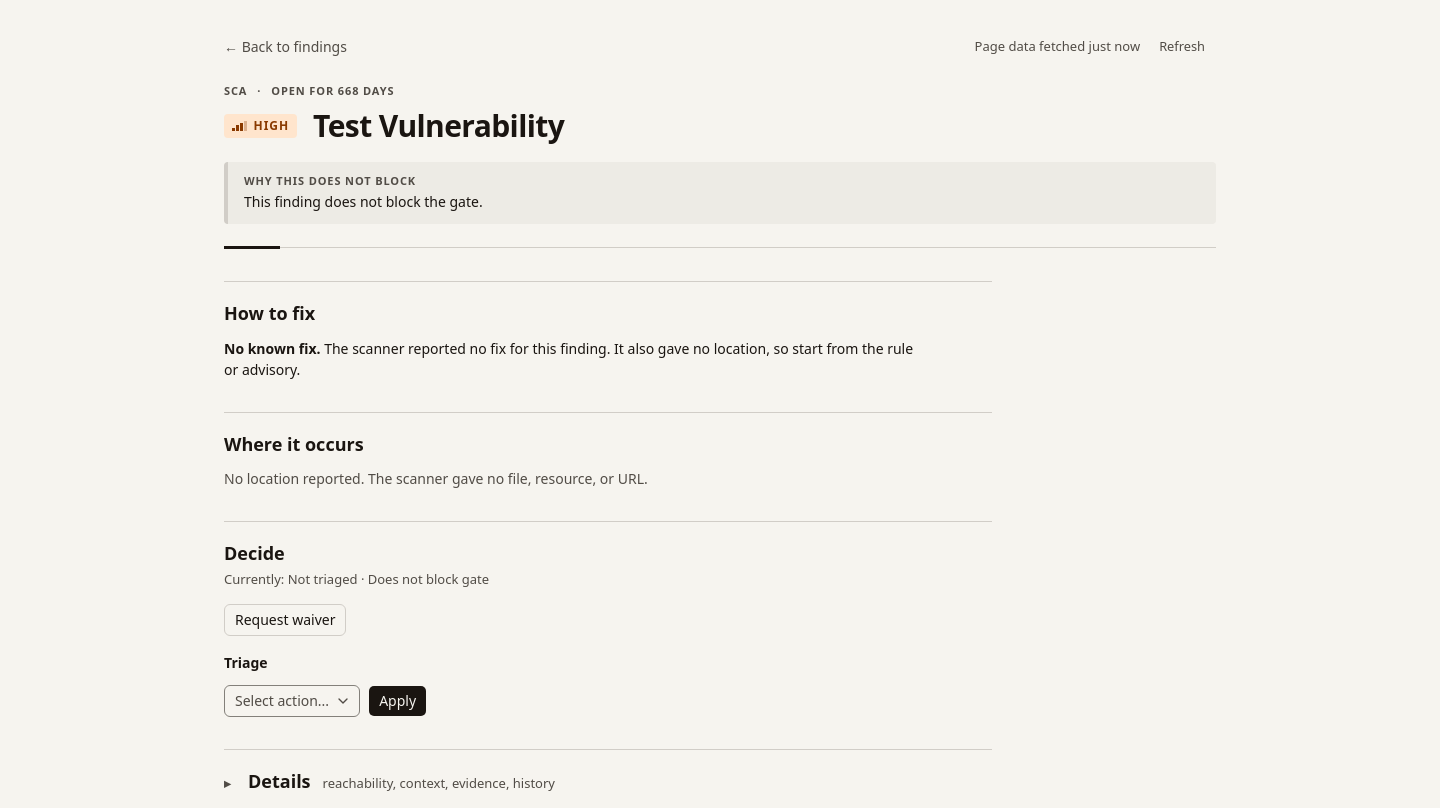
Test: FindingDetail accessibility › names each triage and reachability control for assistive technology
This screenshot has width=1440, height=808.
Expected: the heading "Test Vulnerability" is shown, [313, 109, 564, 142]
Click the button "▸ Details reachability, context, evidence, history" at (279, 781), box [224, 766, 992, 798]
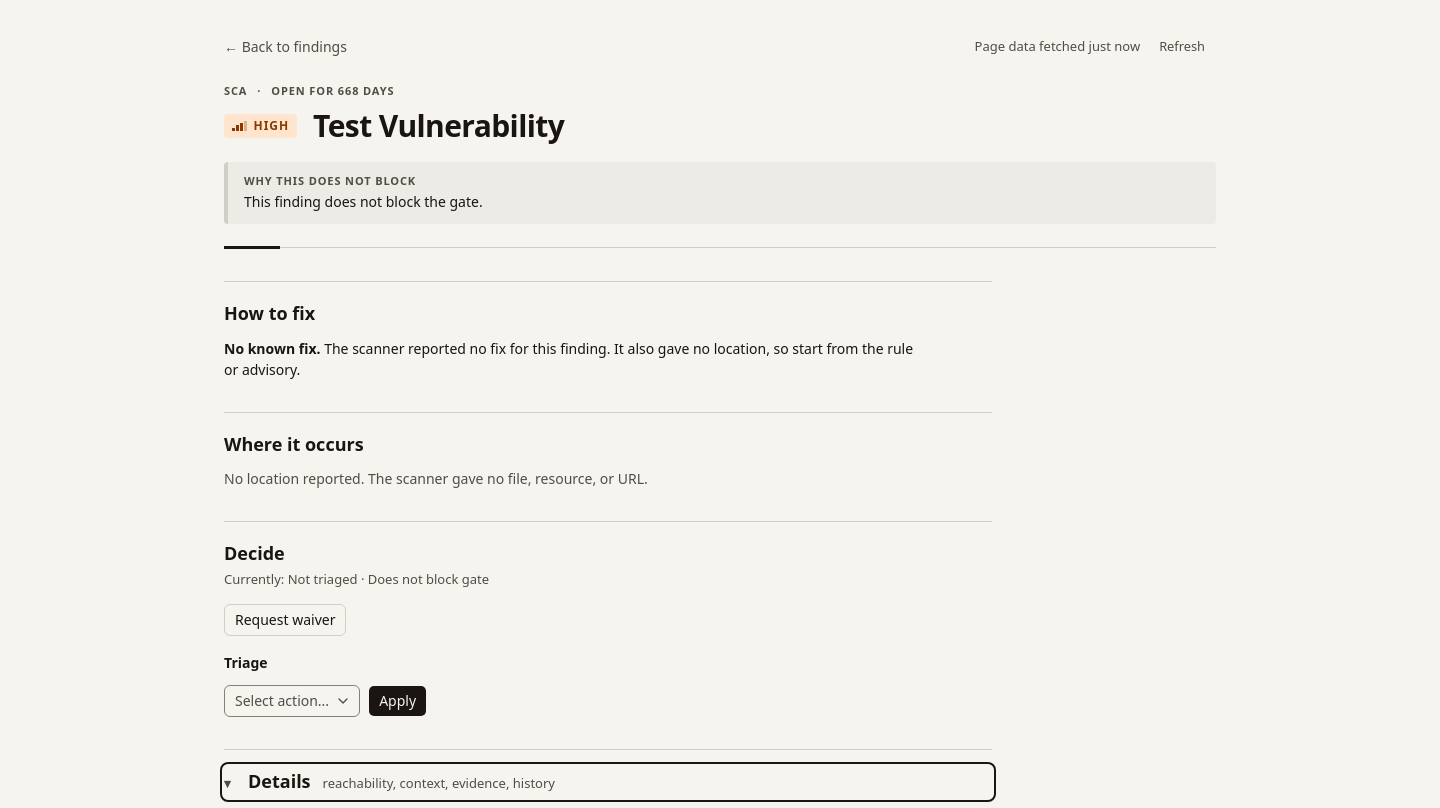
Click the dropdown named "Triage action" at (292, 701), box [224, 685, 360, 717]
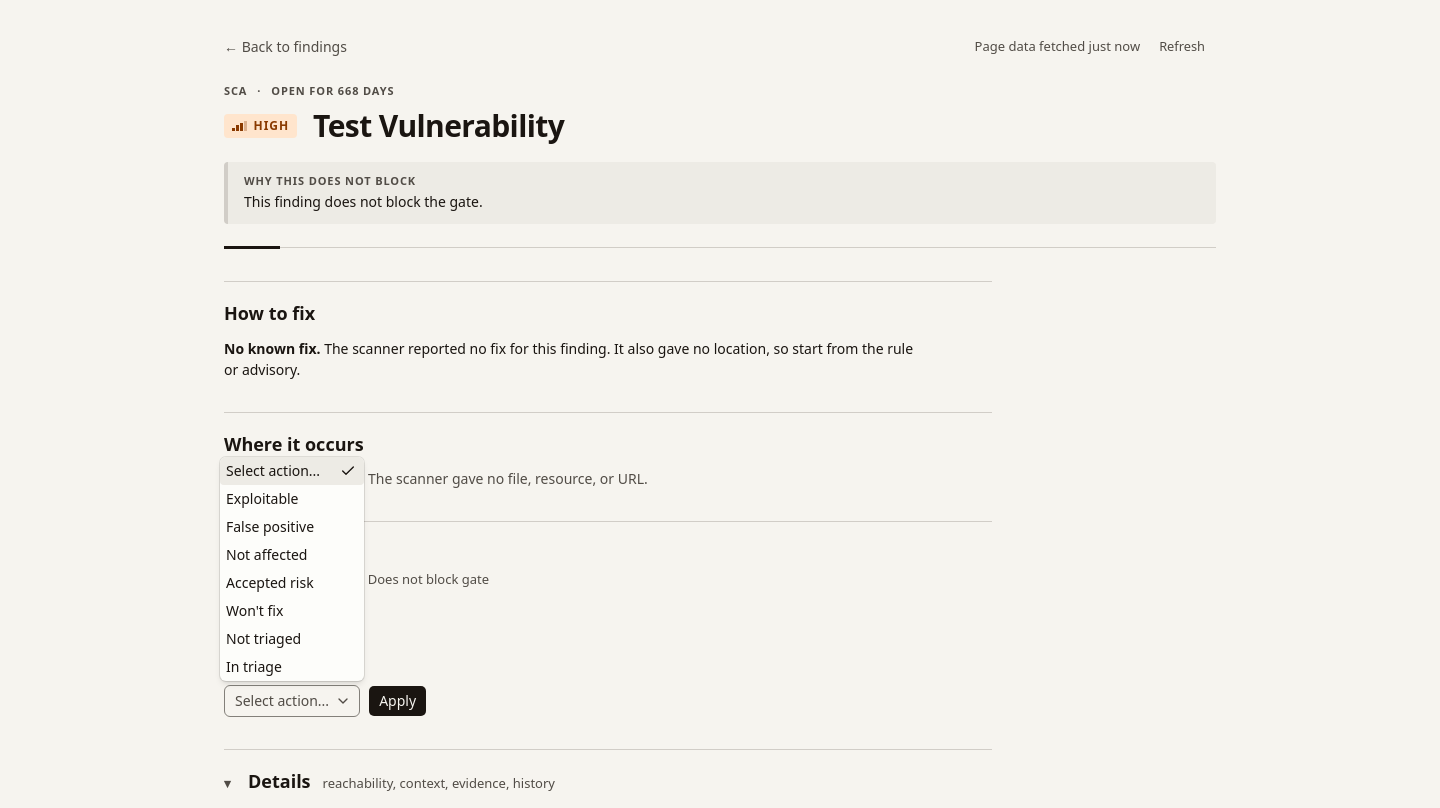
Click the option "Accepted risk" at (270, 582), box [226, 573, 314, 592]
(page scrolled)
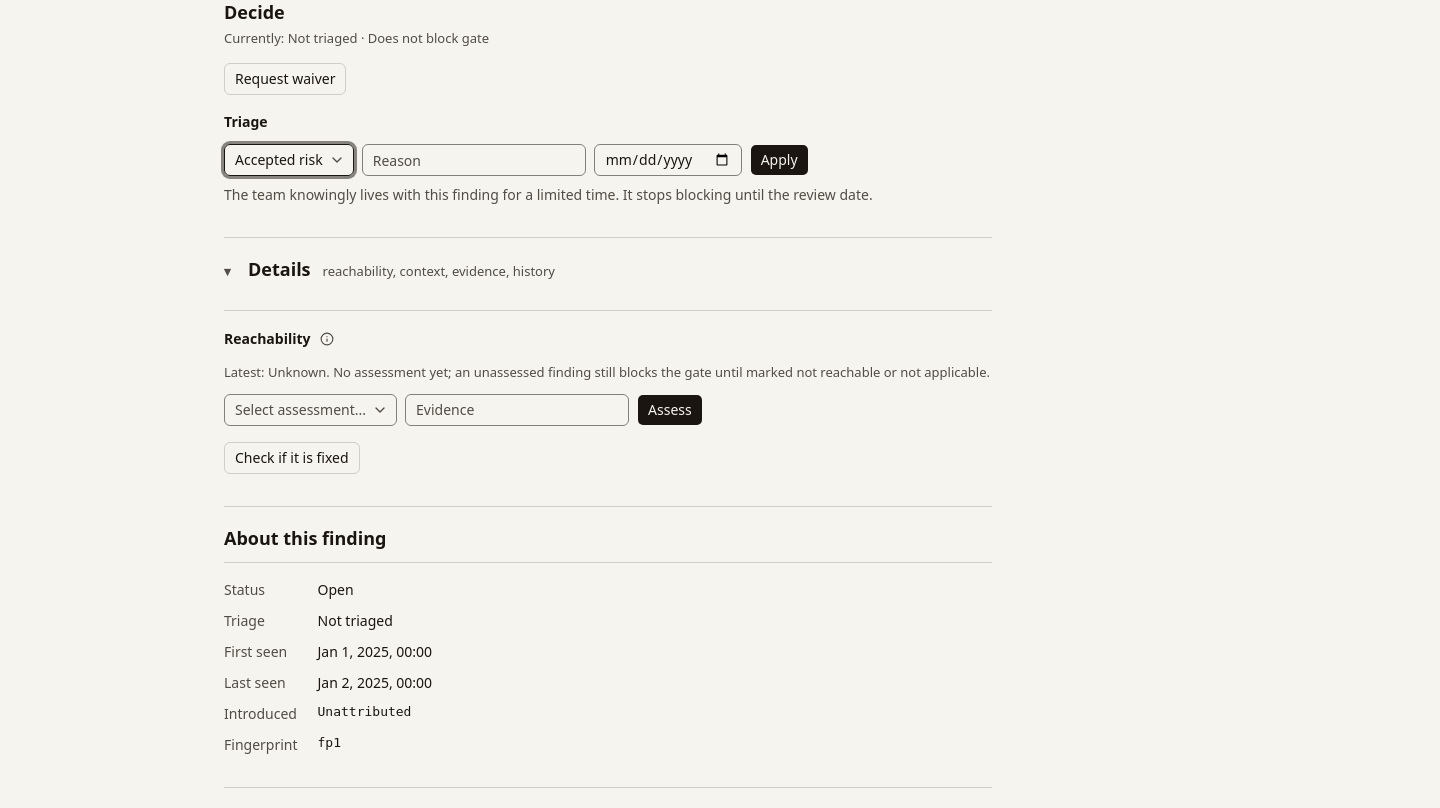
Result: the dropdown named "Reachability assessment" is shown at [224, 394, 397, 426]
Result: the field labelled "Reason" is shown at [362, 144, 586, 176]
Result: the date field named "Expiry date" is shown at [594, 144, 742, 176]
